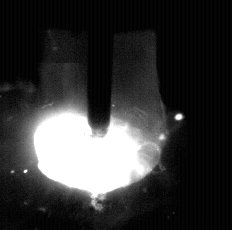arame: (87, 0, 112, 137)
poca: (31, 0, 168, 230)
